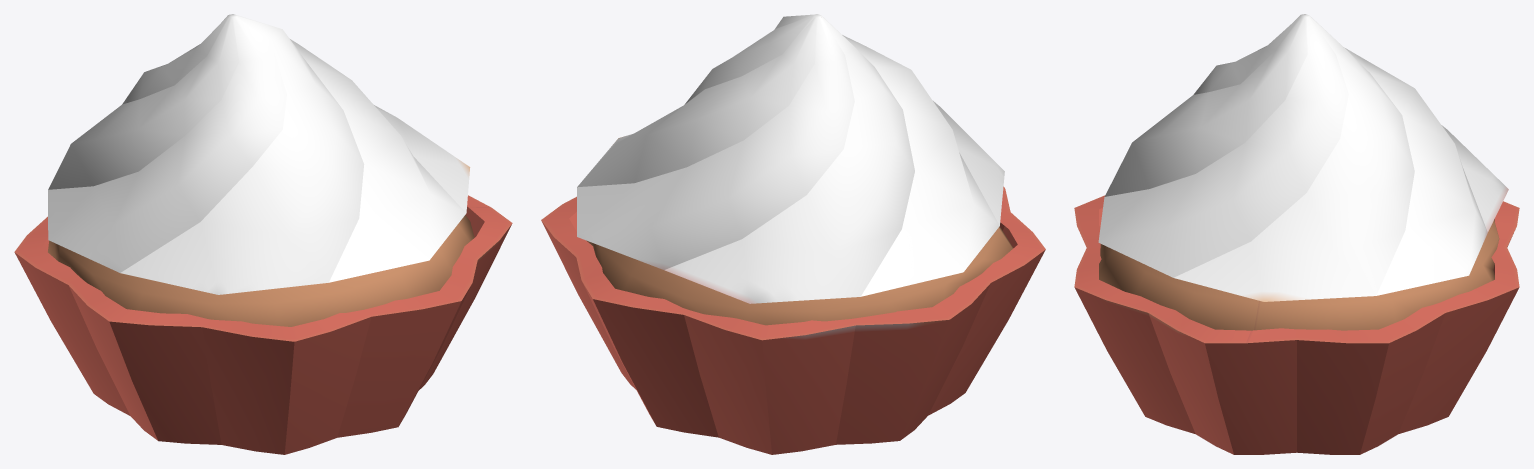
Rendered from SM_Cupcake_Pink.fbx.
The picture shows the model from 3 angles, left to right: view 1: azimuth 30°, elevation 25°; view 2: azimuth 150°, elevation 25°; view 3: azimuth 270°, elevation 25°; orthographic projection. The views are drawn at different scales.
Parts seen in each view (by area): view 1: Cylinder.007, Cylinder.003, Cylinder.021; view 2: Cylinder.007, Cylinder.003, Cylinder.021; view 3: Cylinder.007, Cylinder.003, Cylinder.021.
Boxes of the visible parts, x1,y1,x2,y2 form: Cylinder.007: (48, 14, 470, 294); Cylinder.003: (14, 195, 512, 454); Cylinder.021: (48, 215, 474, 326); Cylinder.007: (577, 14, 1004, 303); Cylinder.003: (541, 186, 1045, 454); Cylinder.021: (586, 226, 1013, 325); Cylinder.007: (1098, 14, 1508, 301); Cylinder.003: (1074, 195, 1519, 454); Cylinder.021: (1099, 220, 1499, 330).
Bounding box in the file's own units: 0.2112 × 0.2076 × 0.1857.
